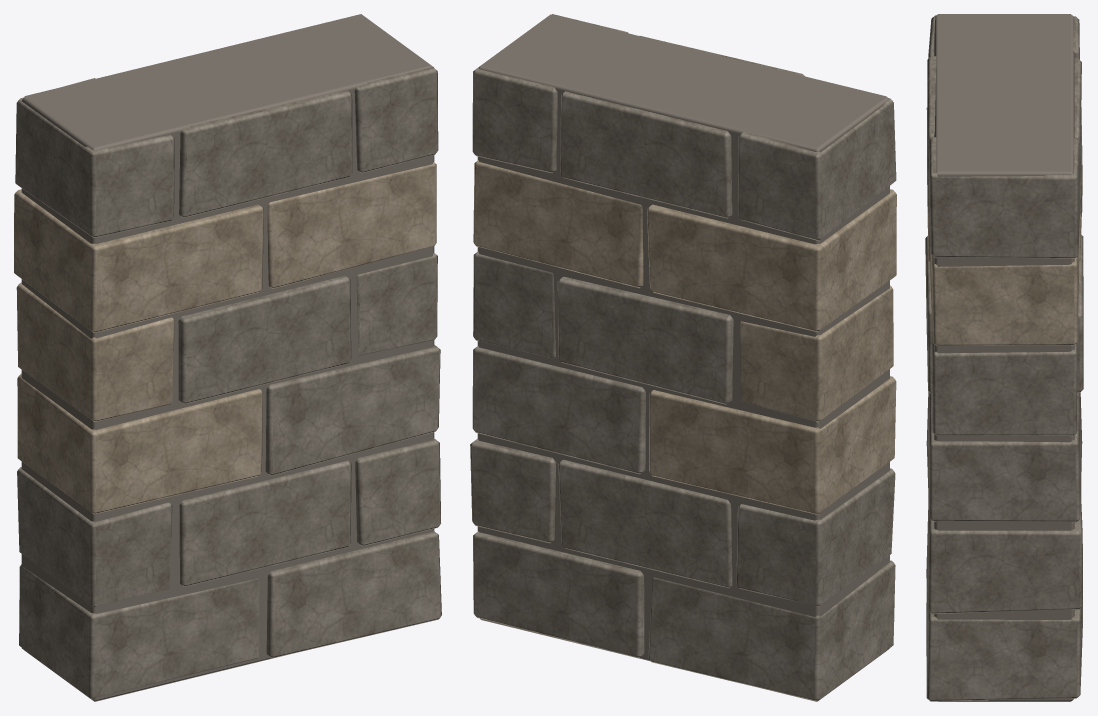
Rendered from Stone_Cliff_2x3.glb.
3 renders of one model, left to right at view 1: azimuth 30°, elevation 25°; view 2: azimuth 150°, elevation 25°; view 3: azimuth 270°, elevation 25°, orthographic. The views are drawn at different scales.
Visible parts, largest first — view 1: Stone_Cliff_2x3; view 2: Stone_Cliff_2x3; view 3: Stone_Cliff_2x3.
Part boxes in pixels (bbox=[...]): Stone_Cliff_2x3: bbox=[14, 14, 441, 701]; Stone_Cliff_2x3: bbox=[470, 14, 896, 701]; Stone_Cliff_2x3: bbox=[925, 14, 1083, 701].
Bounding box in the file's own units: 1.98 × 3 × 0.8113.
Materials: 3 (2 with a texture image).
